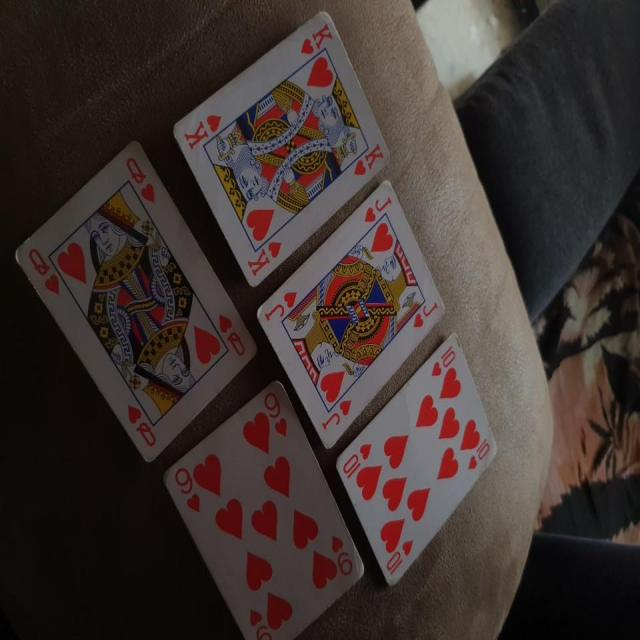10 Hearts: (334, 327, 503, 590)
9 Hearts: (154, 370, 368, 637)
J Hearts: (250, 172, 448, 460)
K Hearts: (169, 2, 391, 294)
Q Hearts: (15, 138, 262, 464)
